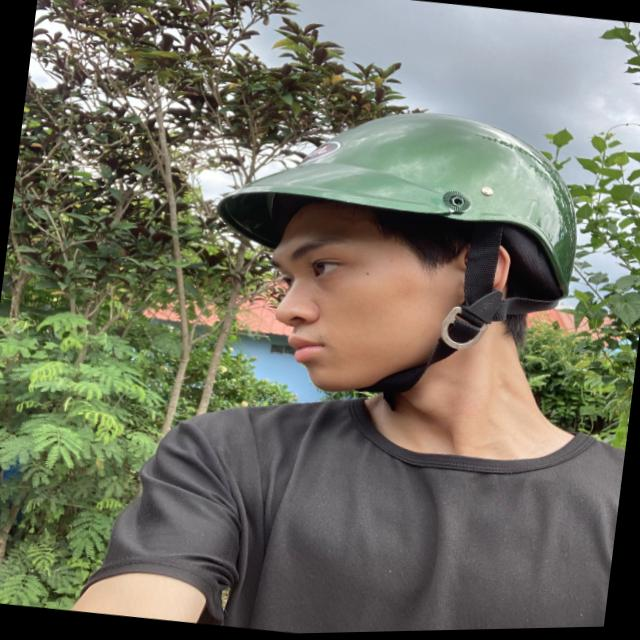helmet: (188, 82, 596, 427)
